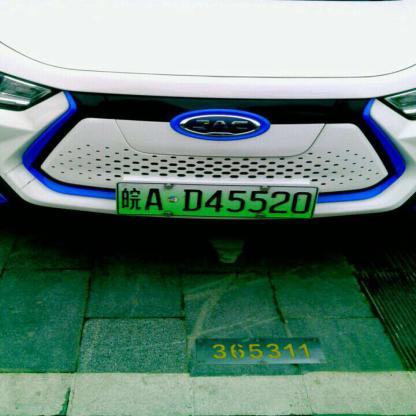lp: (116, 181, 317, 218)
